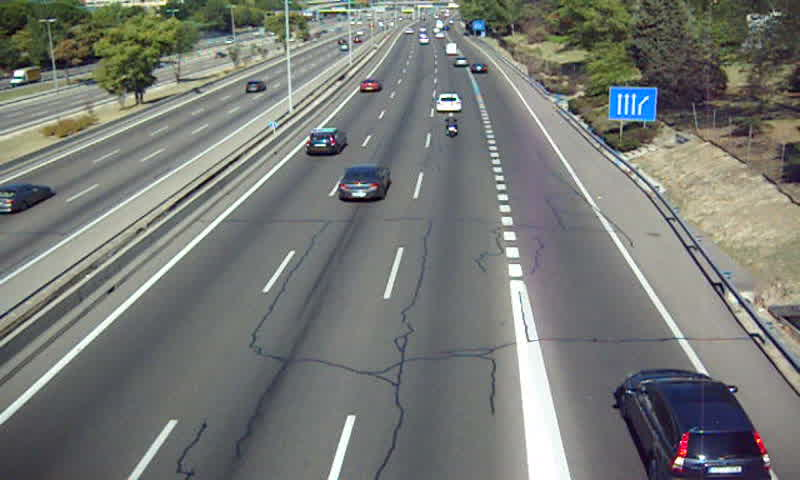car: (618, 370, 769, 480), (337, 163, 389, 201), (303, 128, 344, 155), (435, 93, 463, 113), (358, 79, 380, 94)
motorcycle: (443, 112, 461, 138)
